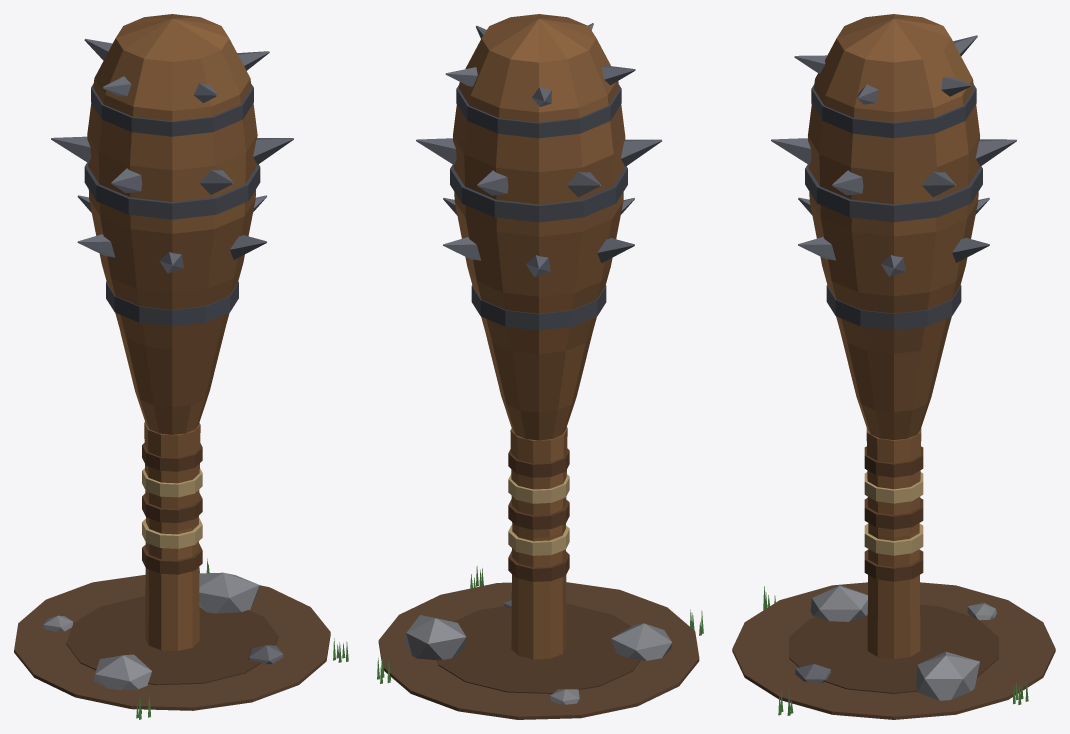
Rendered from Decor_Beanstalk_GiantClub.fbx.
3 renders of one model, left to right at view 1: azimuth 30°, elevation 25°; view 2: azimuth 150°, elevation 25°; view 3: azimuth 270°, elevation 25°, orthographic.
Visible parts, largest first — view 1: GiantClub_Body; view 2: GiantClub_Body; view 3: GiantClub_Body.
Boxes of the visible parts, box(x1,y1,x2,y2) form: GiantClub_Body: box(14, 14, 348, 719); GiantClub_Body: box(377, 14, 703, 719); GiantClub_Body: box(732, 14, 1055, 719).
Bounding box in the file's own units: 18 × 39.2 × 18.
